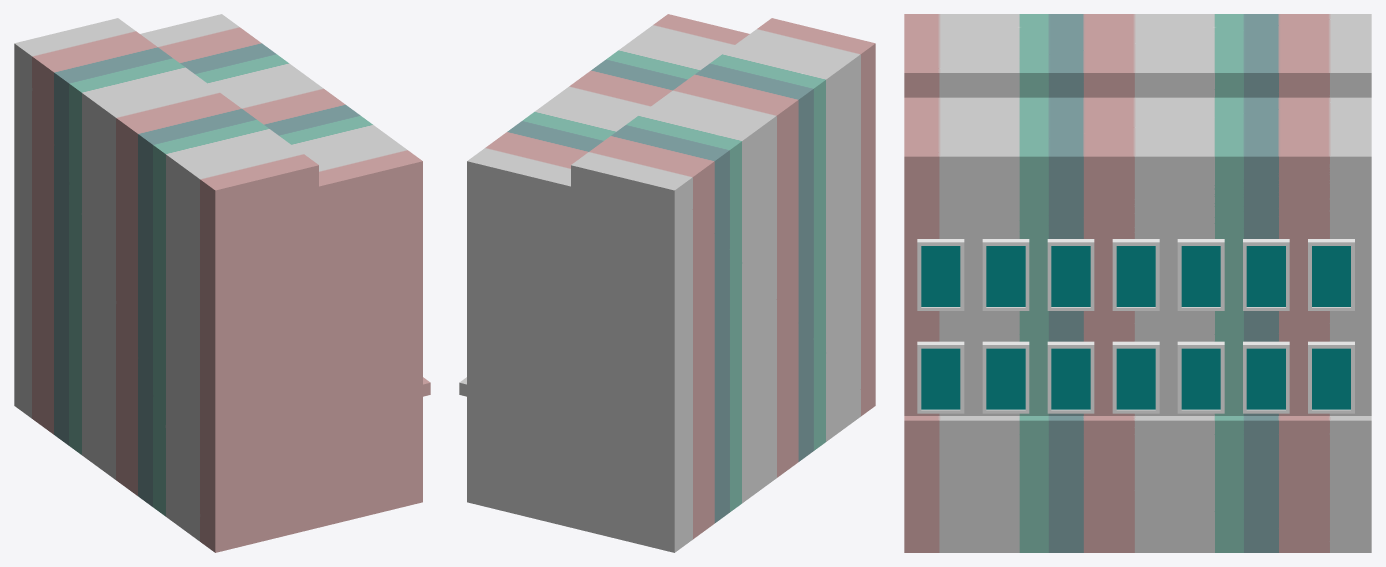
Rendered from buildings_1.dae.
The picture shows the model from 3 angles, left to right: view 1: azimuth 30°, elevation 25°; view 2: azimuth 150°, elevation 25°; view 3: azimuth 270°, elevation 25°; orthographic projection. The views are drawn at different scales.
Parts seen in each view (by area): view 1: group_0; view 2: group_0; view 3: group_0 (×29).
Boxes of the visible parts, x1,y1,x2,y2 form: group_0: (14, 14, 430, 552); group_0: (459, 14, 875, 552); group_0 (×29): (904, 14, 1371, 552).
Size of the model in its own units: 87.4 by 141 by 141.
Materials: 3 (1 with a texture image).
